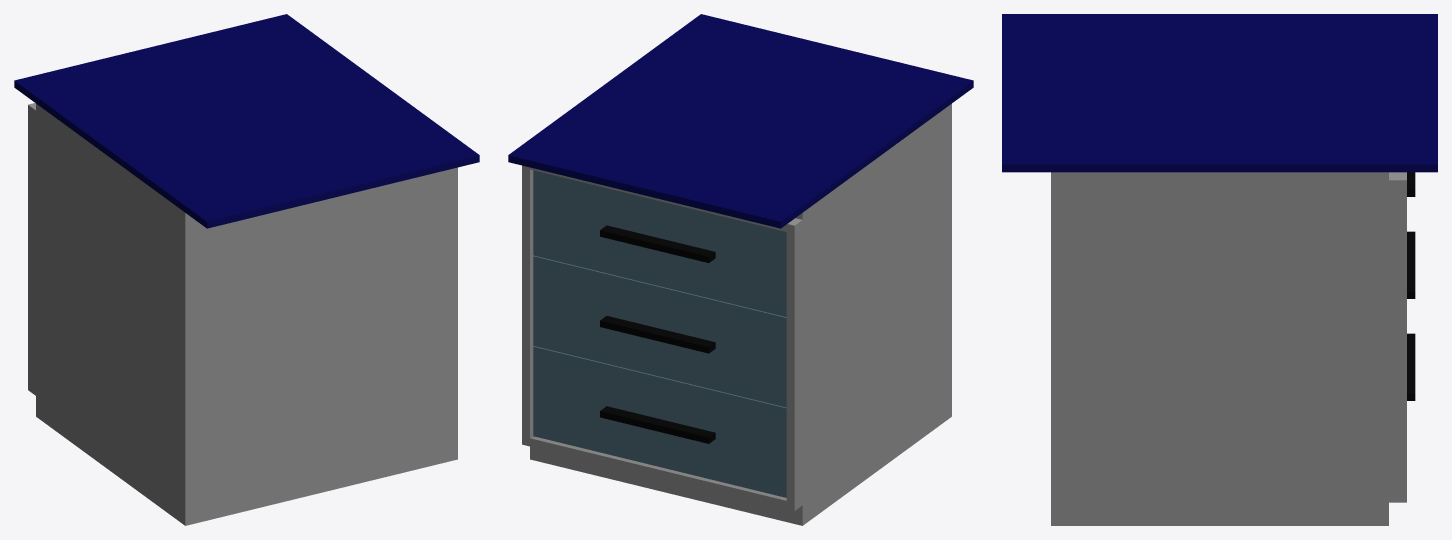
File: counter_counter_3_shelves 1.fbx
3 renders of one model, left to right at view 1: azimuth 30°, elevation 25°; view 2: azimuth 150°, elevation 25°; view 3: azimuth 270°, elevation 25°, orthographic. The views are drawn at different scales.
Parts seen in each view (by area): view 1: counter_counter_3_shelves.001; view 2: counter_counter_3_shelves.001, counter_counter_shelf.005, counter_counter_shelf.004, counter_counter_shelf.003; view 3: counter_counter_3_shelves.001, counter_counter_shelf.004, counter_counter_shelf.005.
Part boxes in pixels (x1,y1,x2,y2): counter_counter_3_shelves.001: [14, 14, 479, 525]; counter_counter_3_shelves.001: [508, 14, 973, 525]; counter_counter_shelf.005: [533, 346, 786, 497]; counter_counter_shelf.004: [533, 255, 786, 407]; counter_counter_shelf.003: [533, 170, 786, 316]; counter_counter_3_shelves.001: [1002, 14, 1437, 525]; counter_counter_shelf.004: [1407, 231, 1415, 298]; counter_counter_shelf.005: [1407, 333, 1415, 400].
Bounding box in the file's own units: 6202 × 6957 × 7599.
